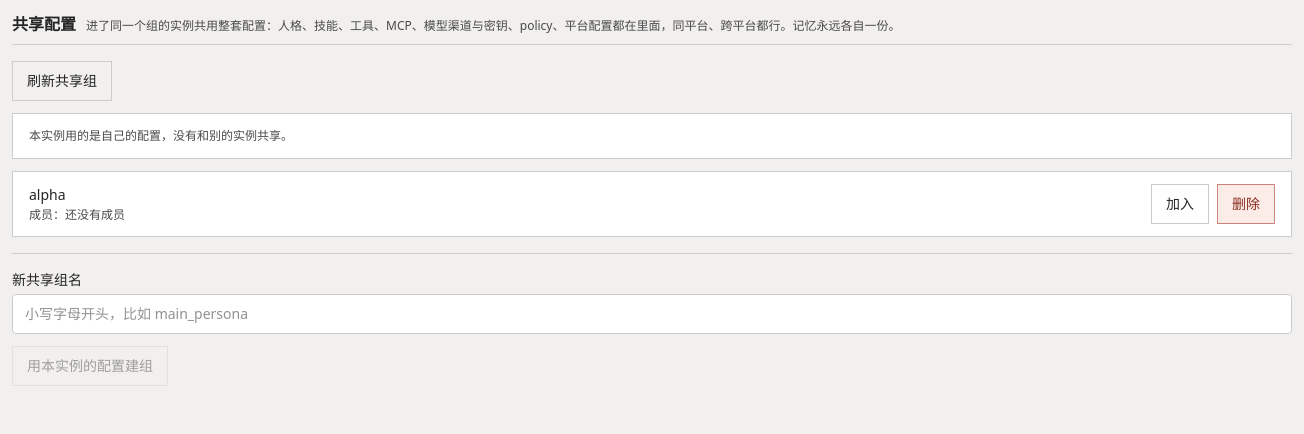
Test: 建共享配置组 › 组名撞上已有的组时劝人直接加入，不发请求
The width and height of the screenshot is (1304, 434).
In the field labelled "新共享组名": (652, 314) [12, 294, 1292, 334], type "  alpha  "
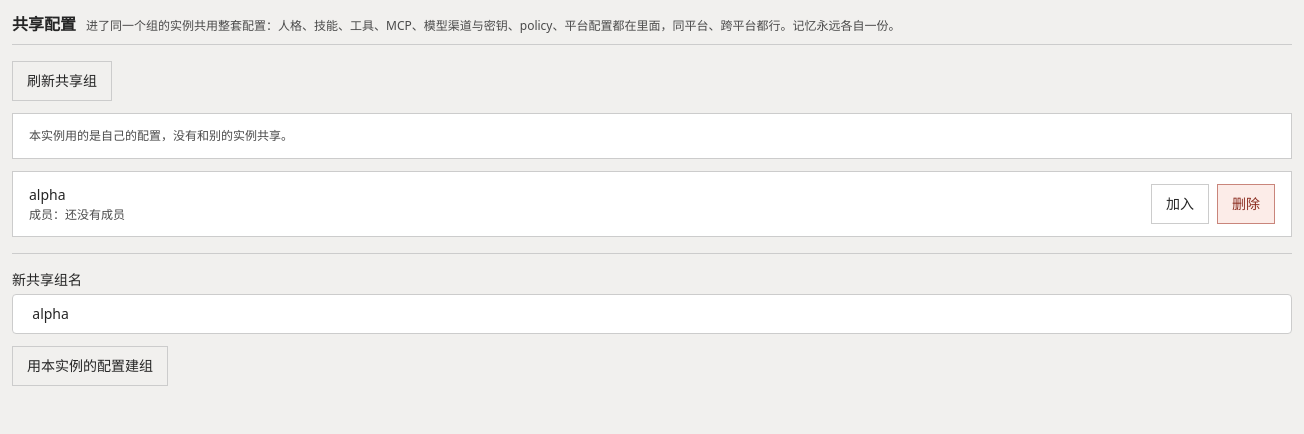
Click the button "用本实例的配置建组": (90, 366) [12, 346, 168, 386]
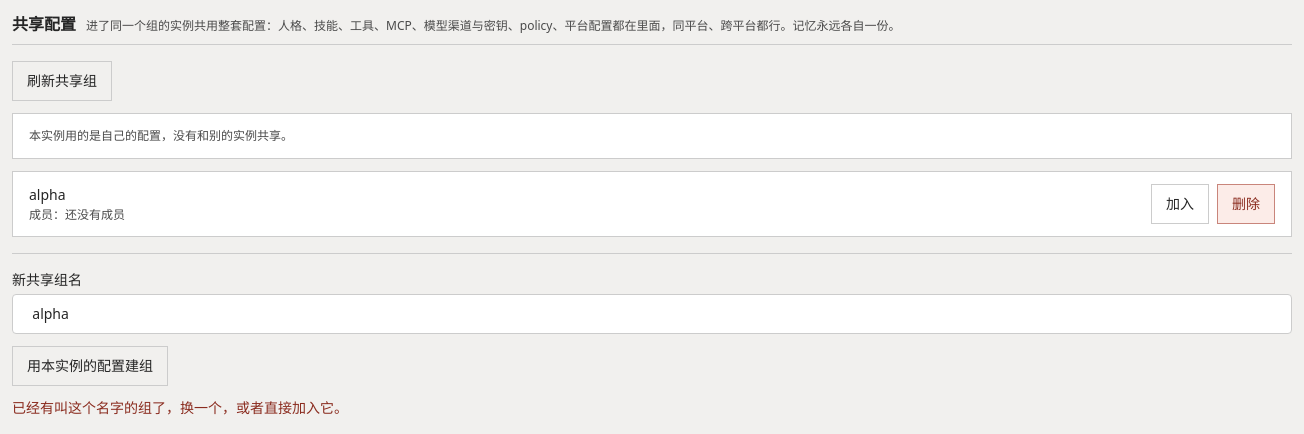
Check: the message reads "已经有叫这个名字的组了，换一个，或者直接加入它。", box [12, 398, 348, 417]
